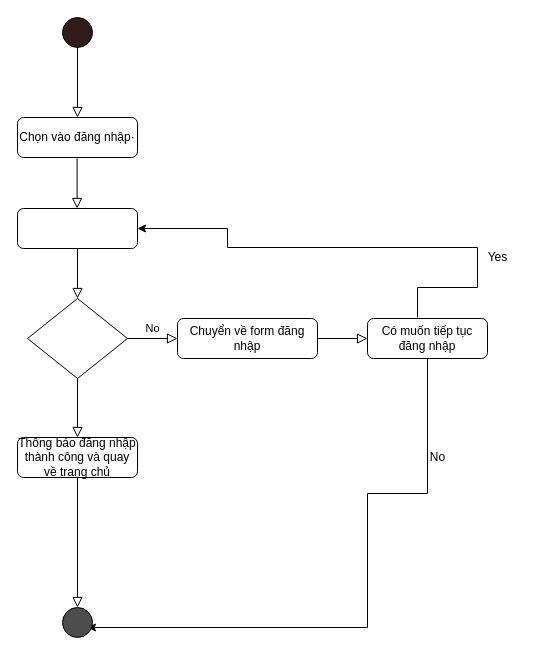
Image size: 535x655. Some labels were removed from this diagram. Each missing label, with the centre of its shape:
"Kiểm tra email và mật khẩu" belongs at (x=77, y=338).
"Nhập email và mật khẩu" belongs at (x=77, y=228).
